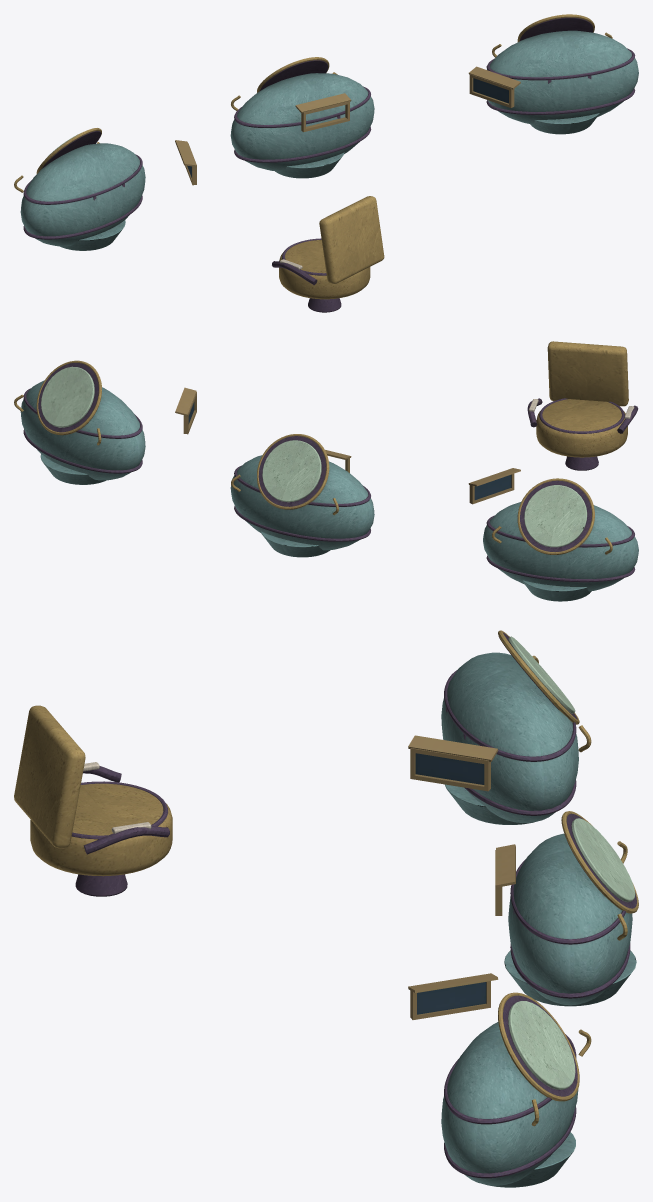
File: bridge_props.glb
3 views of the same model, one above another, from view 1: azimuth 30°, elevation 25°; view 2: azimuth 150°, elevation 25°; view 3: azimuth 270°, elevation 25° (orthographic). The views are drawn at different scales.
Parts seen in each view (by area): view 1: console_navigation_0, console_navigation_1, console_navigation_2, captain_chair, v2_nav_detail_00, v2_nav_detail_01, v2_nav_detail_02; view 2: console_navigation_2, console_navigation_1, console_navigation_0, captain_chair, v2_nav_detail_02, v2_nav_detail_01, v2_nav_detail_00, v2_chair_detail_00; view 3: console_navigation_0, console_navigation_2, console_navigation_1, captain_chair, v2_nav_detail_00, v2_nav_detail_01, v2_nav_detail_02, v2_chair_detail_00.
Part boxes in pixels (x1,y1,x2,y2): console_navigation_0: (468,17,638,134); console_navigation_1: (230,60,374,178); console_navigation_2: (20,131,196,250); captain_chair: (272,196,384,312); v2_nav_detail_00: (486,14,635,114); v2_nav_detail_01: (231,57,371,162); v2_nav_detail_02: (14,128,142,239); console_navigation_2: (468,468,638,601); console_navigation_1: (230,436,374,557); console_navigation_0: (20,363,196,484); captain_chair: (527,341,638,470); v2_nav_detail_02: (486,478,635,582); v2_nav_detail_01: (231,434,370,541); v2_nav_detail_00: (14,360,142,473); v2_chair_detail_00: (529,398,634,433); console_navigation_0: (408,973,578,1187); console_navigation_2: (408,633,578,824); console_navigation_1: (495,813,636,1006); captain_chair: (14,705,172,896); v2_nav_detail_00: (444,992,591,1178); v2_nav_detail_01: (510,811,638,998); v2_nav_detail_02: (444,630,591,815); v2_chair_detail_00: (71,762,167,839).
Size of the model in its own units: 12.36 by 2.1 by 7.03.
Materials: 8 (8 with a texture image).
